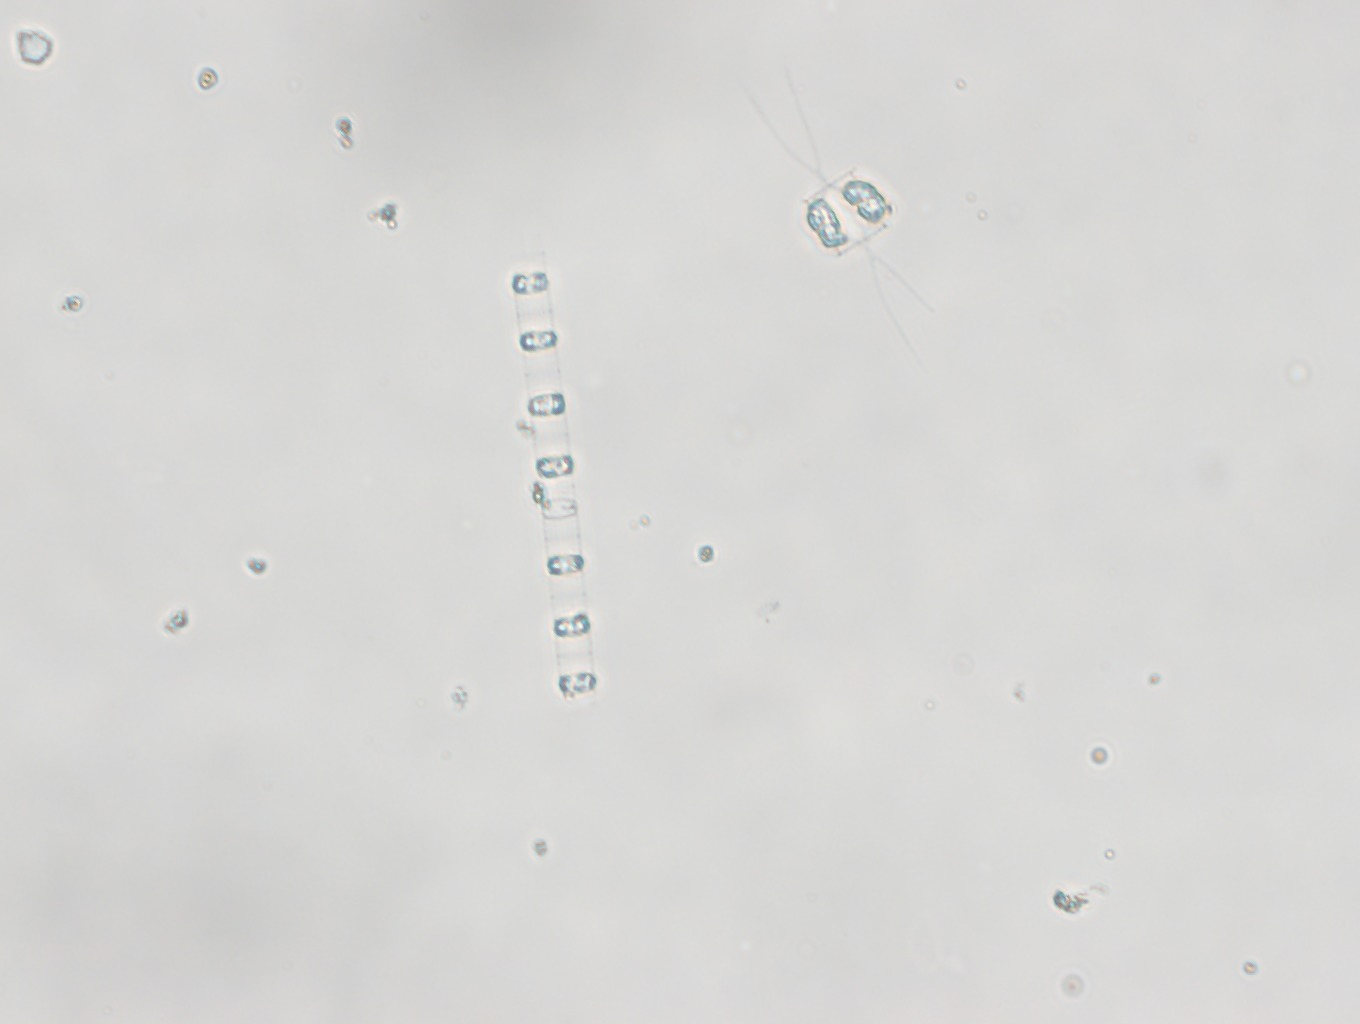chaetoceros: (730, 66, 950, 367)
skeletonema: (495, 256, 610, 708)
